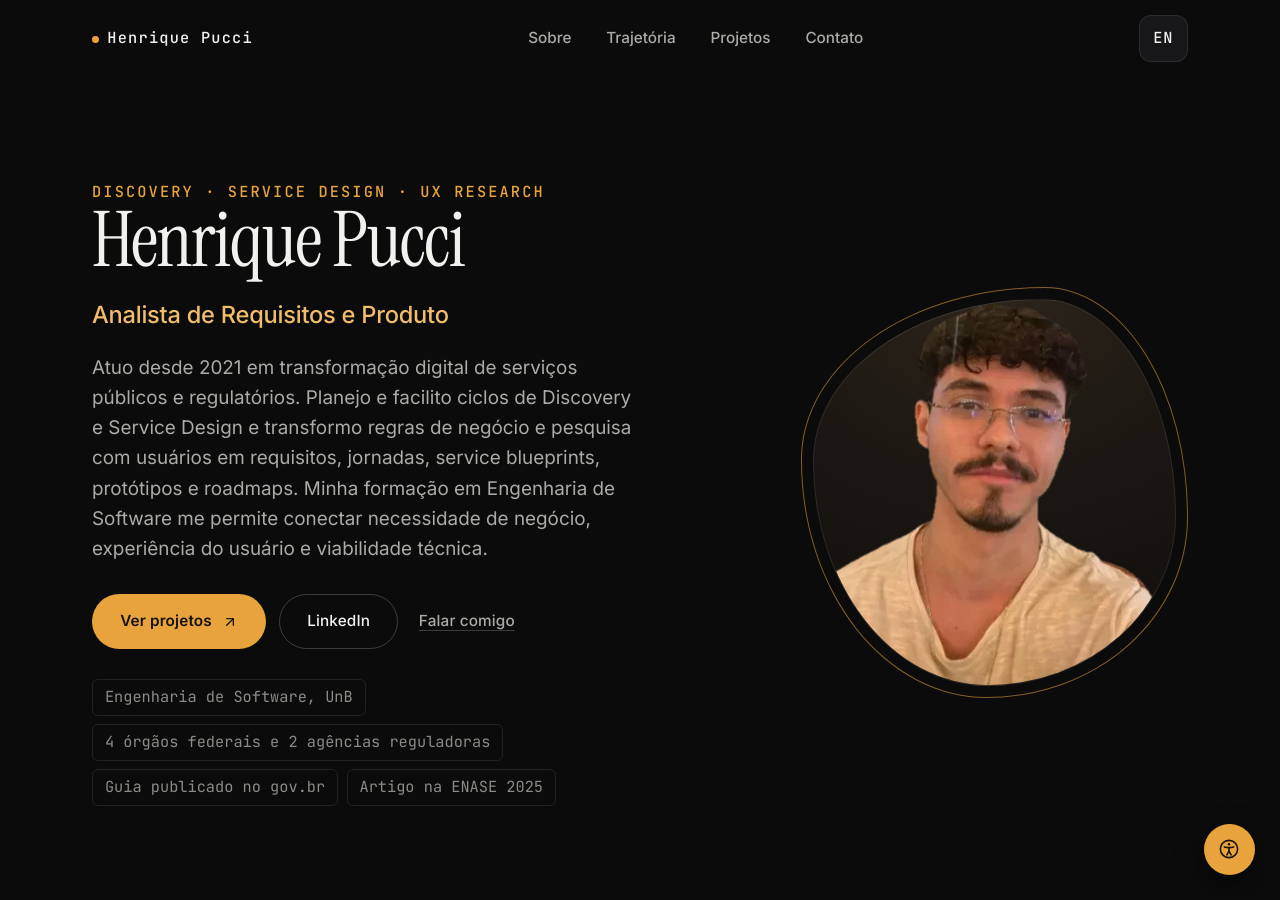
Test case: idioma › troca o conteúdo e o lang do documento
Step 1. Click the button with aria-label "switch to english" → (1163,38), box [1139,15,1188,62]
(page scrolled)
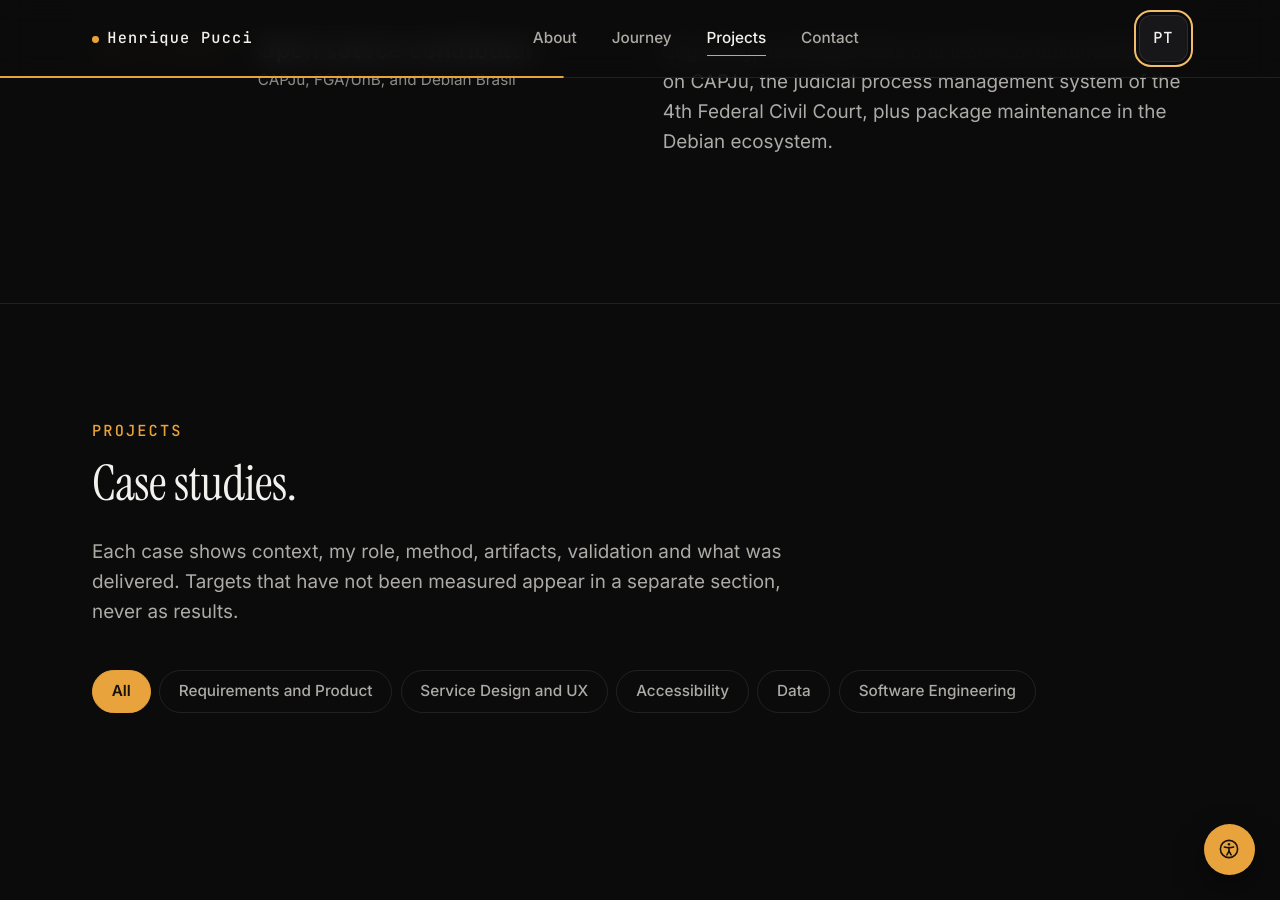
Expected: the heading "Case studies." is shown, [92,451,297,515]
